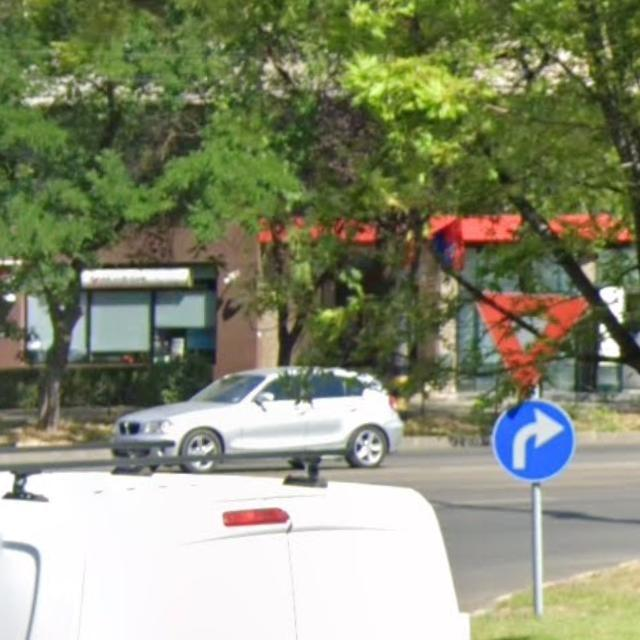prio_give_way: (476, 289, 591, 388)
